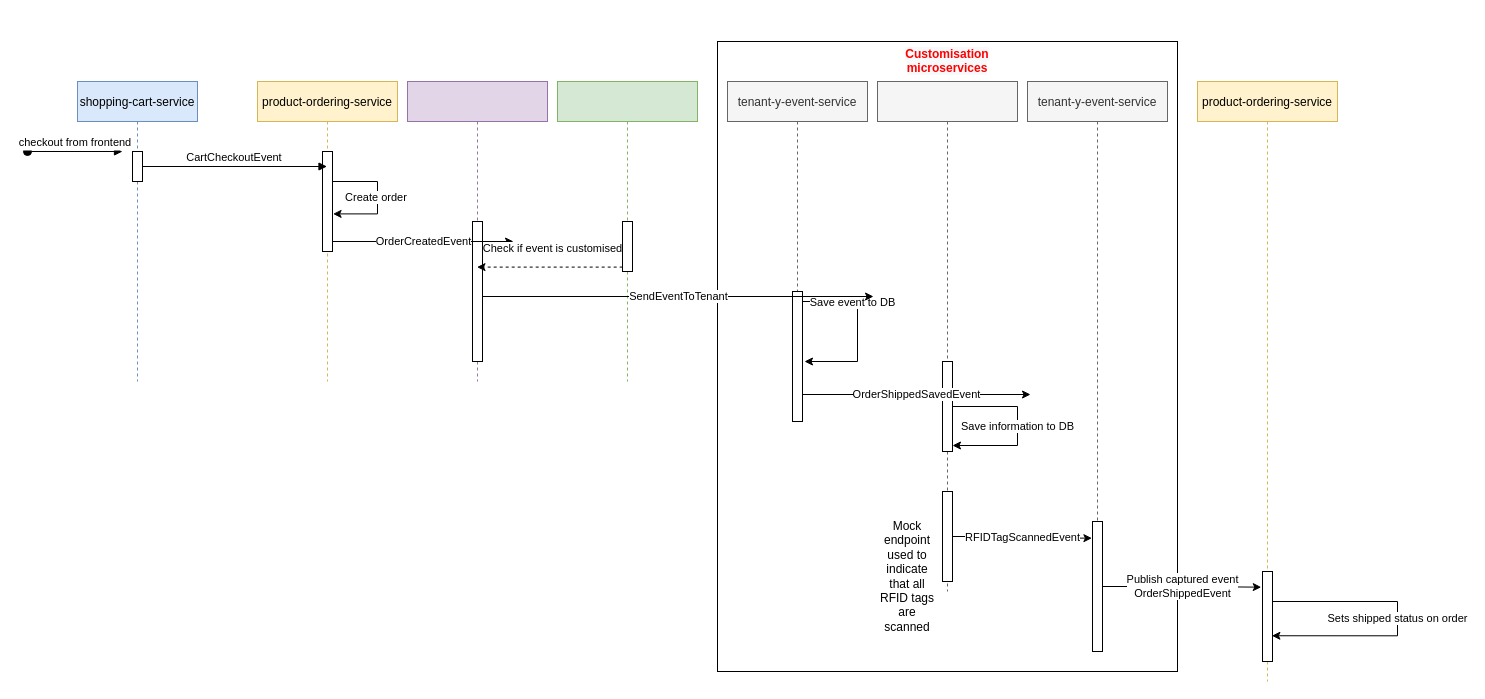
Image size: 1485x699. Some labels were removed from this diagram. The shapes that lost their labels are listed below. From the top down, each one's box as (x1, y1, x2, y2) in pixels, then its label:
(406, 80, 548, 382): product-shipping-service
(556, 80, 698, 382): tenant-manager-service
(876, 80, 1018, 592): tenant-y-rfid-service
